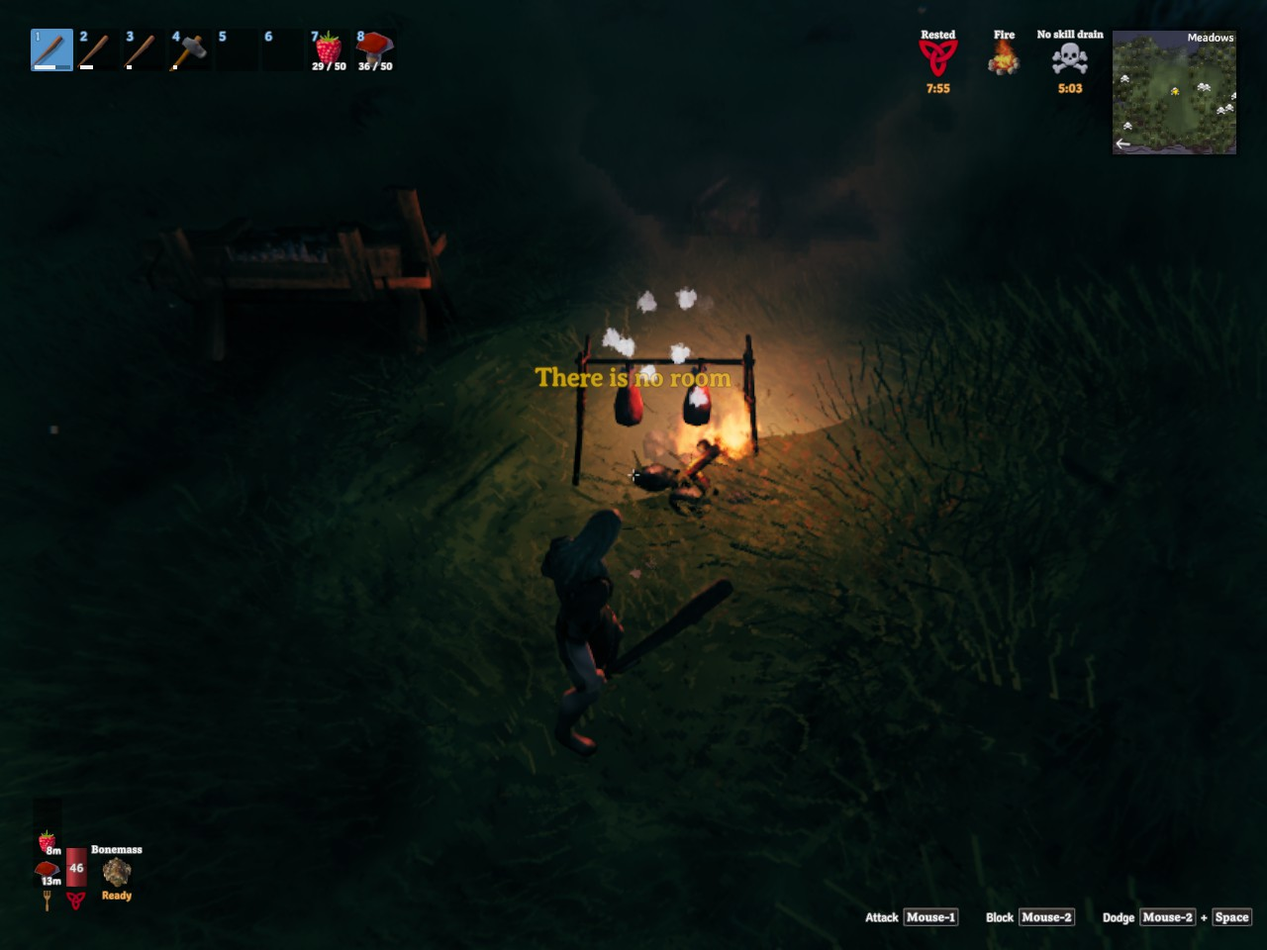Cook Station: (568, 328, 768, 496)
